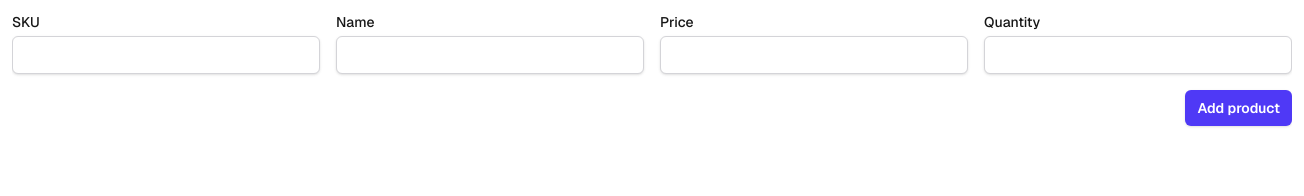
ProductForm › shows the backend's message when the SKU already exists
The image size is (1304, 196).
Type "KB-001" into the field labelled "SKU".
click(166, 55); type("KB-001")  # box [12,36,320,74]
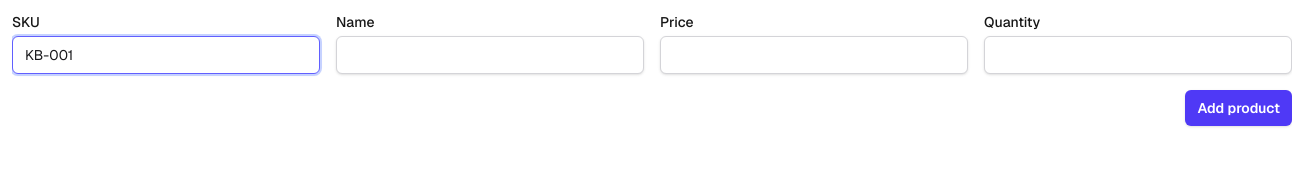
Type "Keyboard" into the field labelled "Name".
click(490, 55); type("Keyboard")  # box [336,36,644,74]
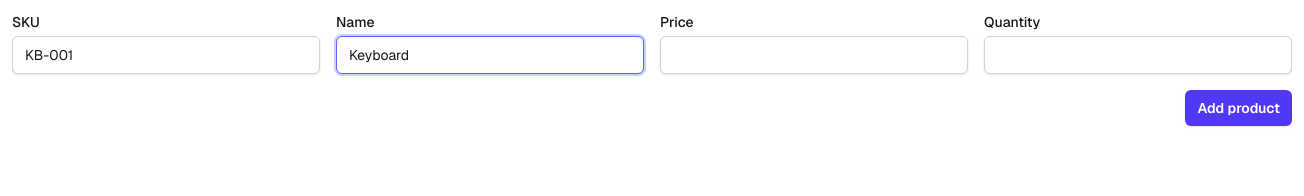
Type "89" into the number field labelled "Price".
click(814, 55); type("89")  # box [660,36,968,74]
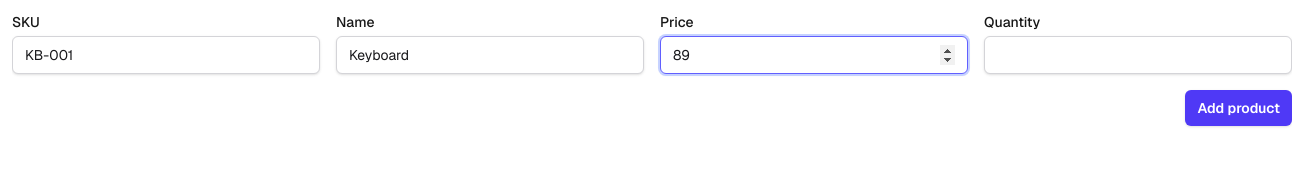
Type "5" into the number field labelled "Quantity".
click(1138, 55); type("5")  # box [984,36,1292,74]
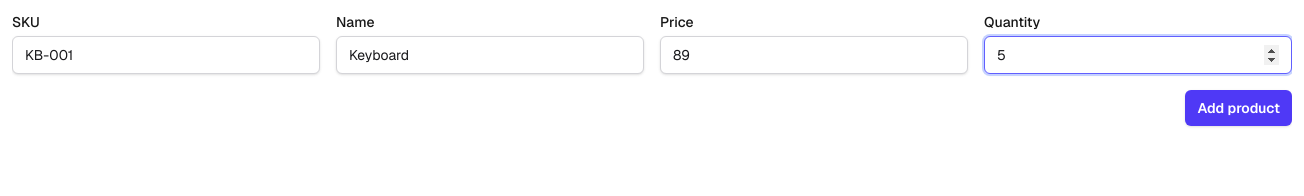
Click the button "Add product".
click(1239, 108)  # box [1186,90,1292,126]
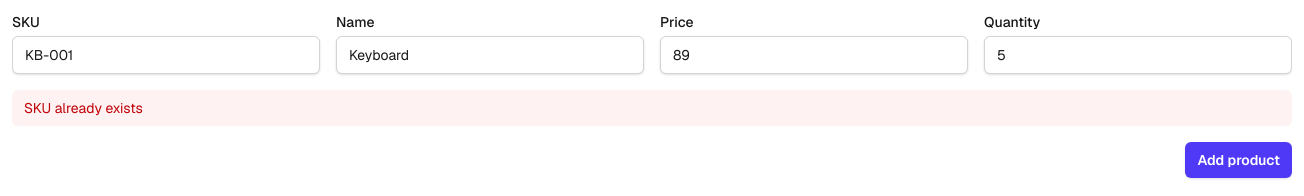
Expected: the message reads "SKU already exists", [24,99,143,117]
